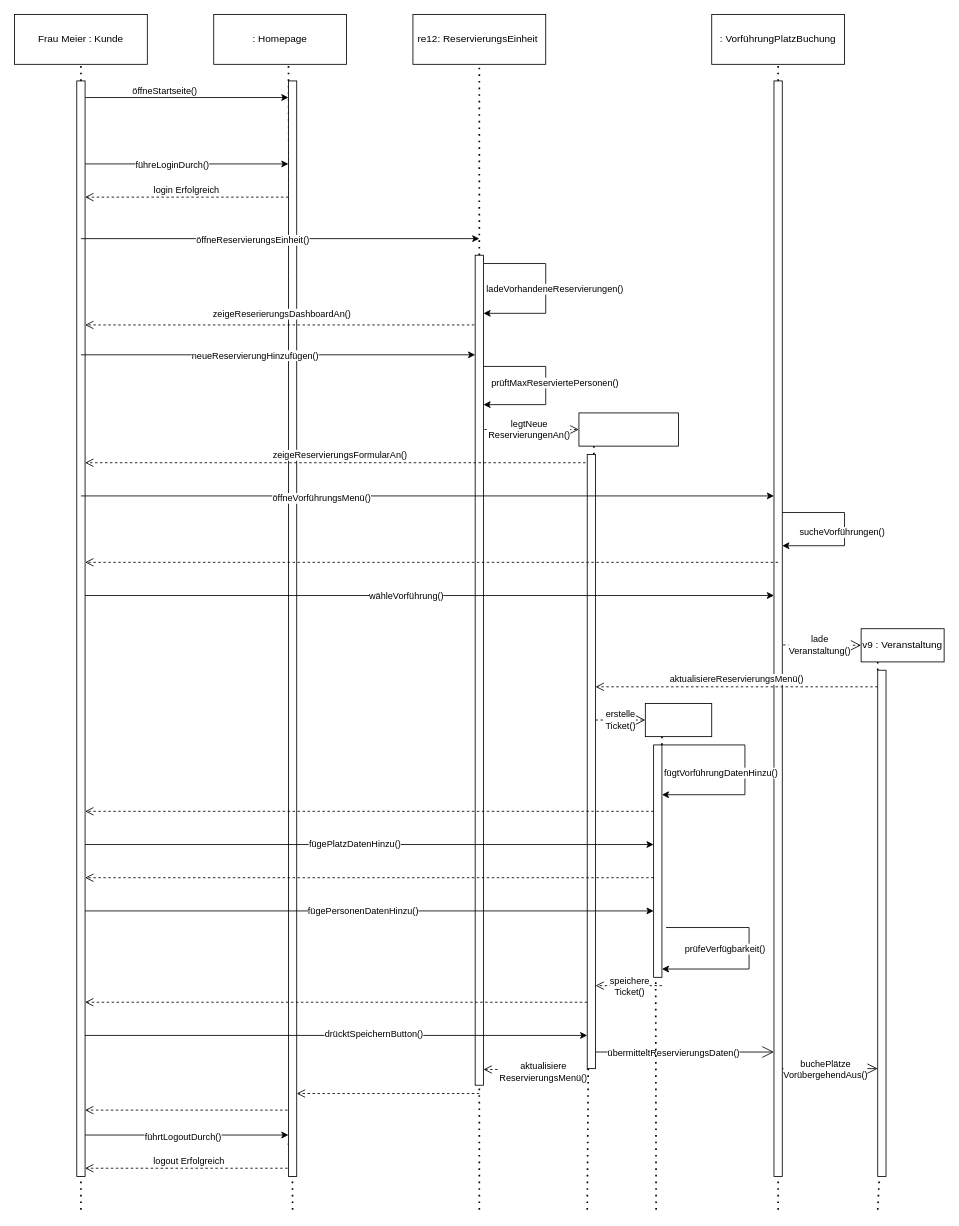
Some shapes in this 959 by 1226 pixel diagram are drawn without their labels. The centre of each missing label's shape, as x and y in pixels:
"r129 : Reservierung" belongs at (628,429).
"t1224 : Ticket" belongs at (678,720).
